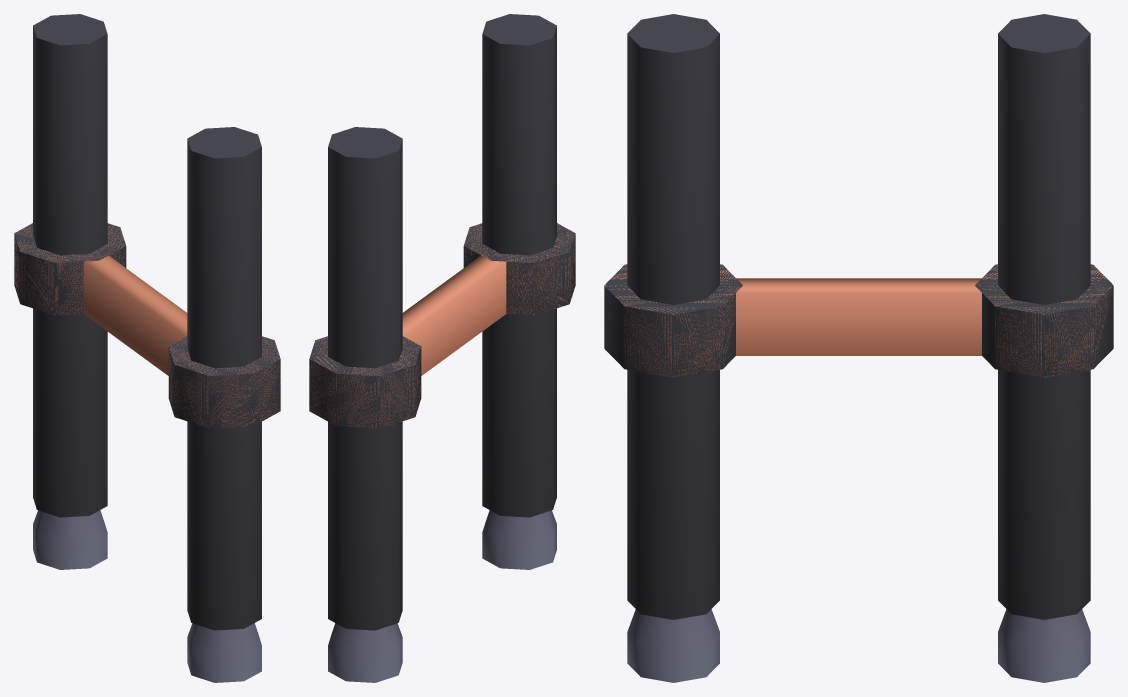
File: structure-high.obj
The picture shows the model from 3 angles, left to right: view 1: azimuth 30°, elevation 25°; view 2: azimuth 150°, elevation 25°; view 3: azimuth 270°, elevation 25°; orthographic projection. The views are drawn at different scales.
Parts seen in each view (by area): view 1: structure-high; view 2: structure-high; view 3: structure-high.
Boxes of the visible parts, x1,y1,x2,y2 form: structure-high: (14, 14, 280, 682); structure-high: (309, 14, 575, 682); structure-high: (604, 14, 1113, 682).
Size of the model in its own units: 0.3 by 1.5 by 1.1.
